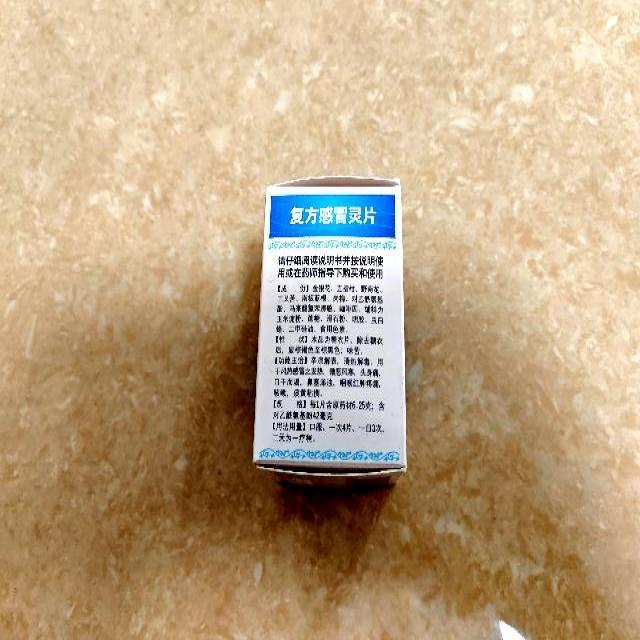box: (253, 174, 407, 486)
